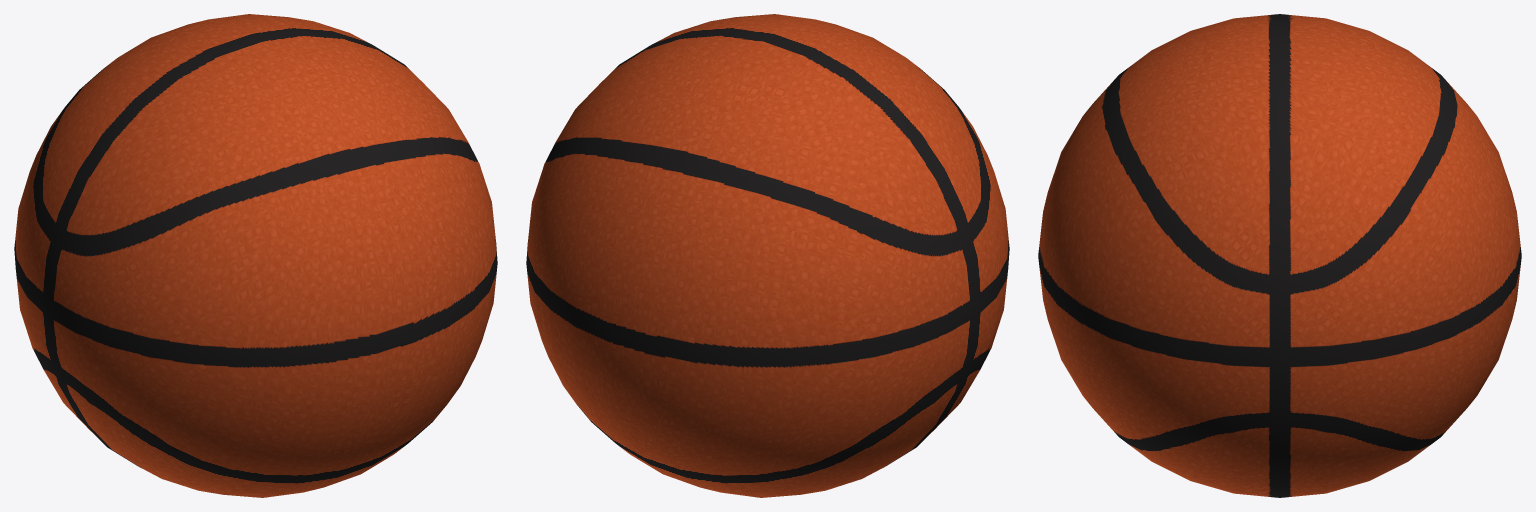
Rendered from basketball.obj.
The picture shows the model from 3 angles, left to right: view 1: azimuth 30°, elevation 25°; view 2: azimuth 150°, elevation 25°; view 3: azimuth 270°, elevation 25°; orthographic projection.
Parts seen in each view (by area): view 1: Cube.001; view 2: Cube.001; view 3: Cube.001.
Part boxes in pixels (x1,y1,x2,y2): Cube.001: (14, 14, 497, 497); Cube.001: (526, 14, 1009, 497); Cube.001: (1038, 14, 1521, 497).
Bounding box in the file's own units: 0.4821 × 0.4821 × 0.4821.
